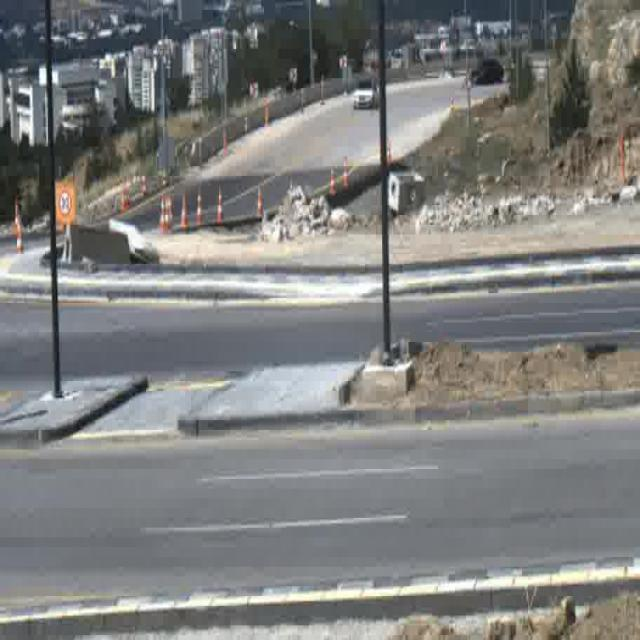Car: (468, 58, 504, 86), (352, 78, 376, 110)
